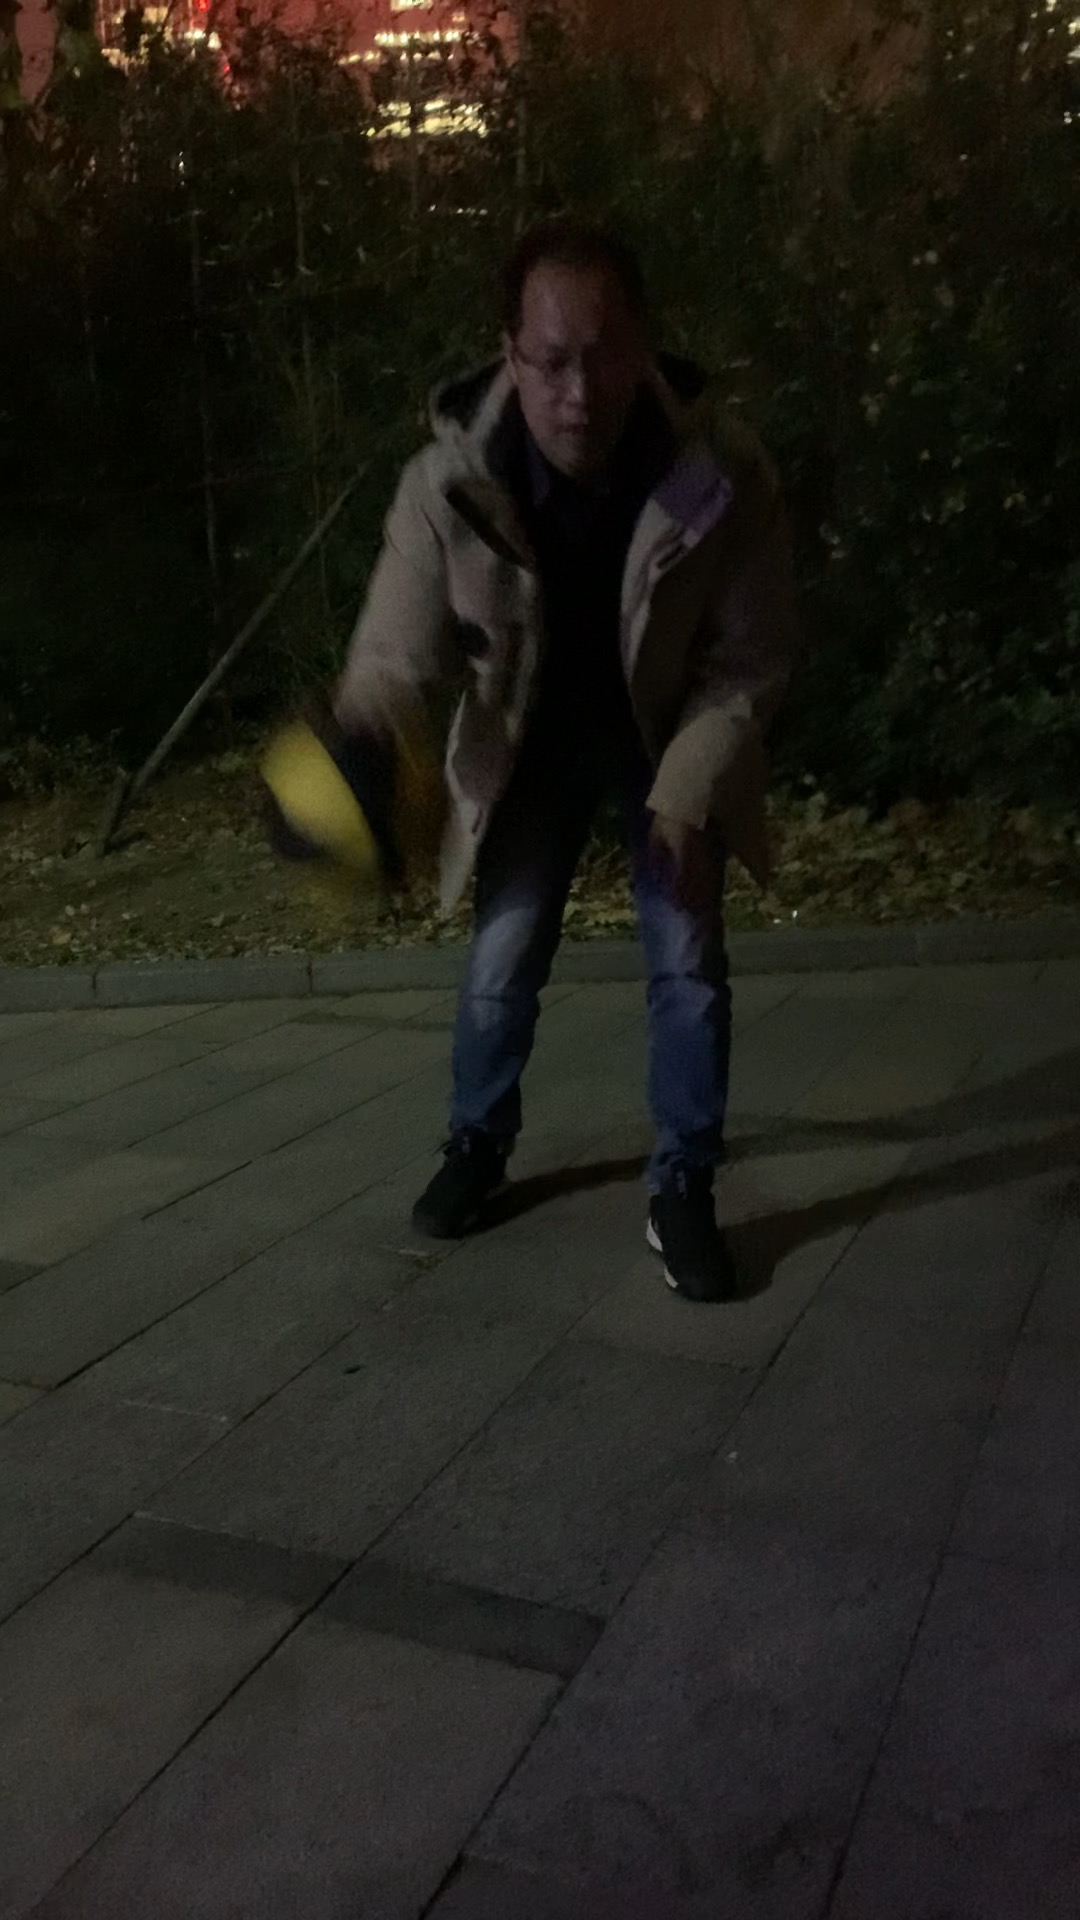ball: (260, 709, 448, 887)
